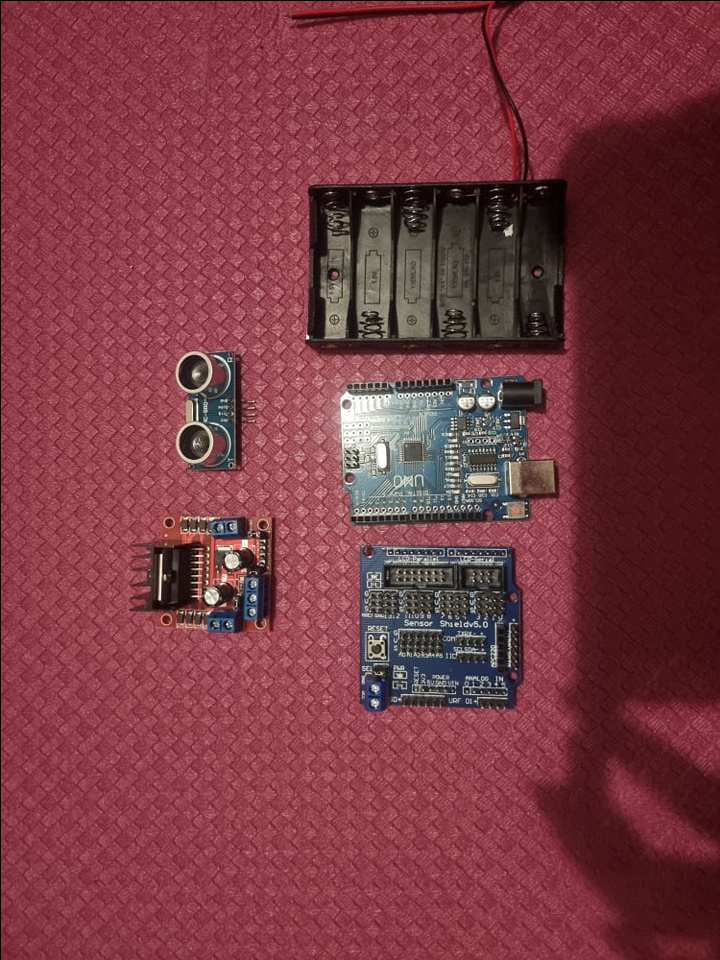5V EXPANSION: (356, 544, 521, 708)
BATTERY BOX: (304, 181, 567, 350)
MOTOR: (129, 511, 270, 631)
SENSOR: (170, 347, 243, 473)
UNO R3: (336, 372, 560, 526)
